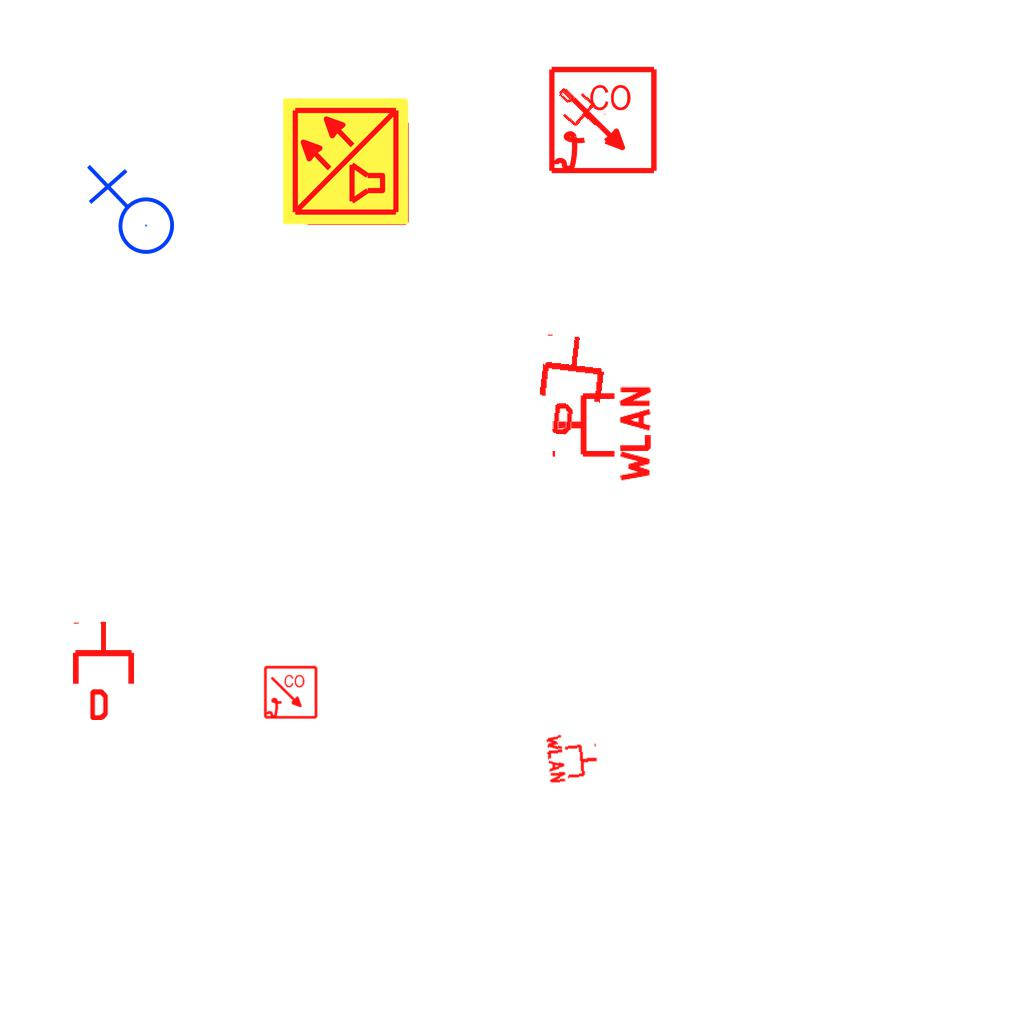Datenanschluss_einfach: (531, 331, 612, 439), (69, 620, 138, 720), (547, 79, 609, 139)
Elektroanschluss_allgemein_230V_Geraeteanschlussdose_230V: (82, 164, 176, 263)
OKW_Multisensormelder_(Kombination_optischer_Rauch-Kahlenmonoxid_Waerme-Melder): (280, 95, 412, 227)
ROA_Rauchmelder_optisch_mit_Signalgeber_(Sockelsirene): (547, 65, 660, 178), (263, 665, 319, 721)
WLAN: (548, 382, 653, 486), (544, 728, 602, 786)
